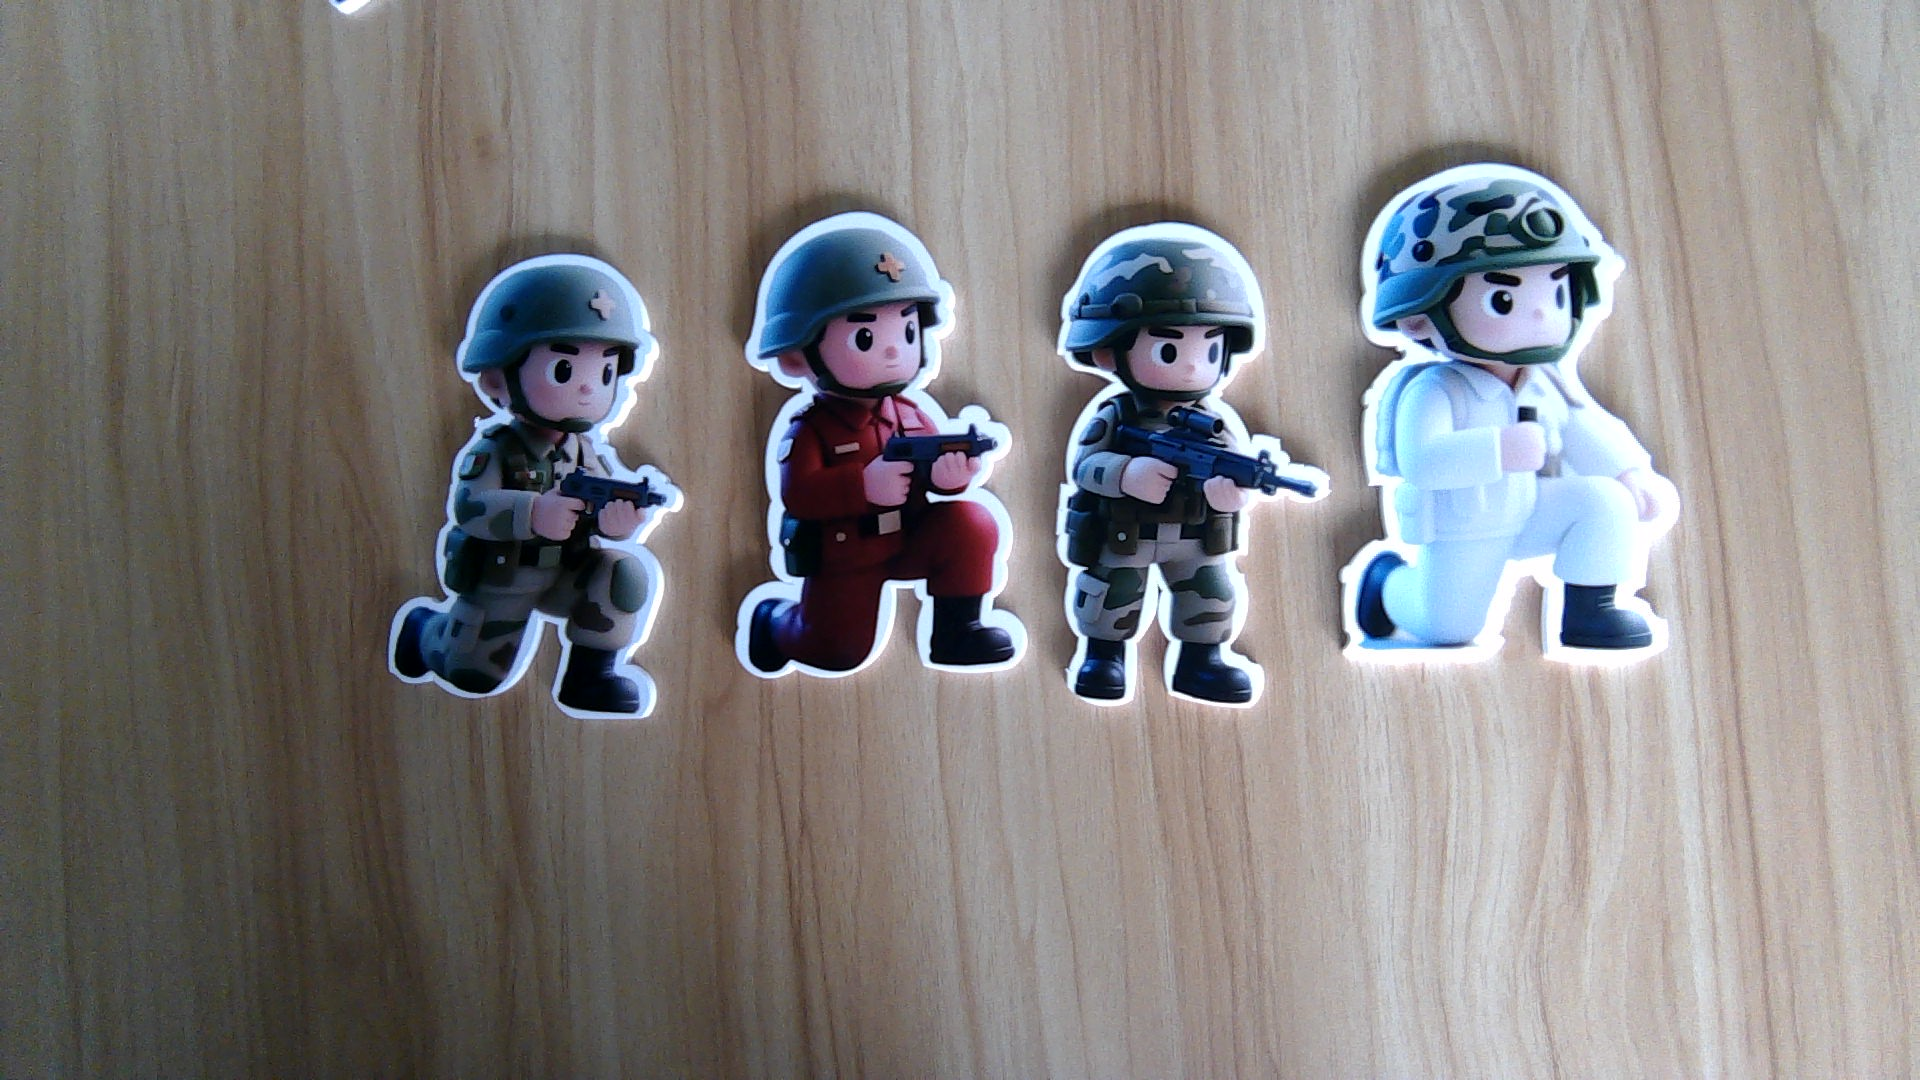人质: (1335, 375, 1697, 678)
友军: (371, 423, 686, 723), (1052, 390, 1309, 713)
敌人1: (728, 396, 1029, 690)
